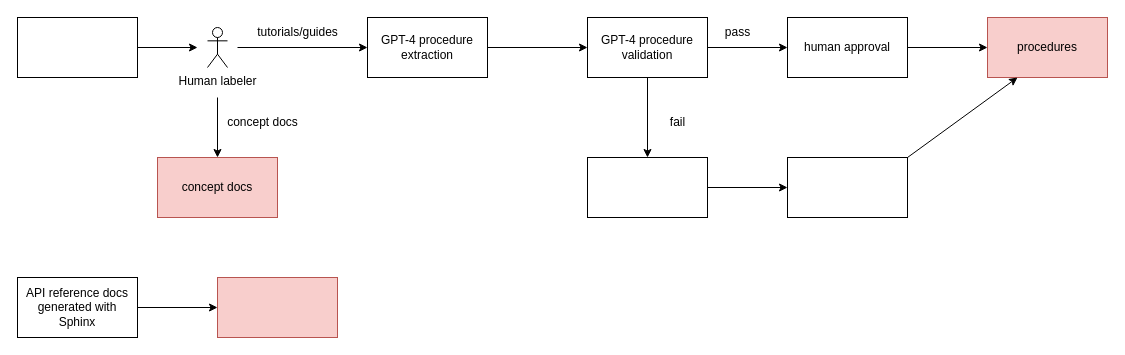
The diagram is 1125 pixels wide and 355 high, and some of its shapes have lost their labels. Here are the shapes that lost their labels. From the top down, the centre of each, then its label:
At (x=77, y=47): "scraped docs from LangChain".
At (x=647, y=187): "GPT-4 revision".
At (x=847, y=187): "human revision".
At (x=277, y=307): "API reference".
